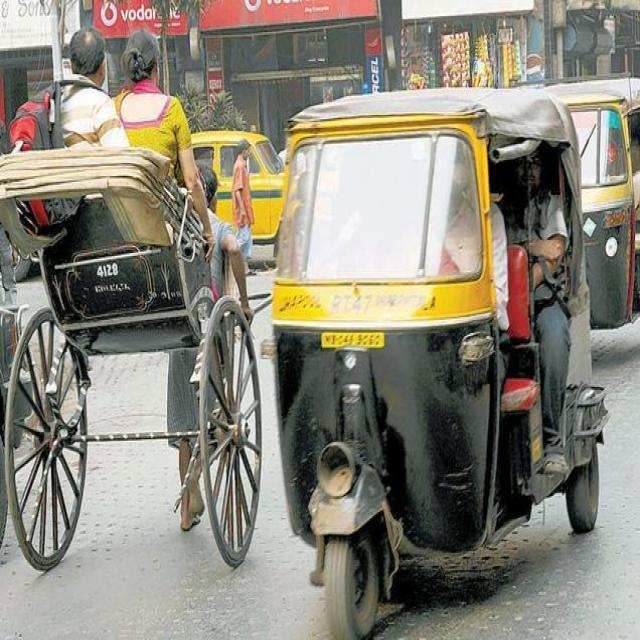auto ahead at: (272, 94, 610, 639)
